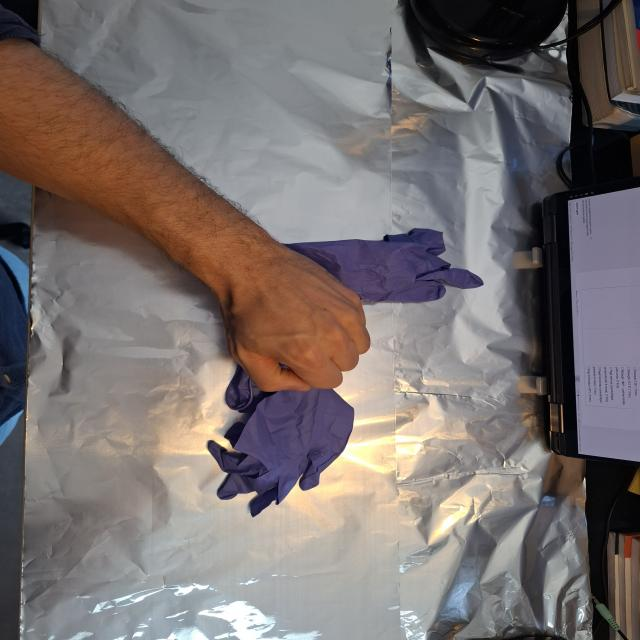glove_off: (214, 242, 374, 394)
